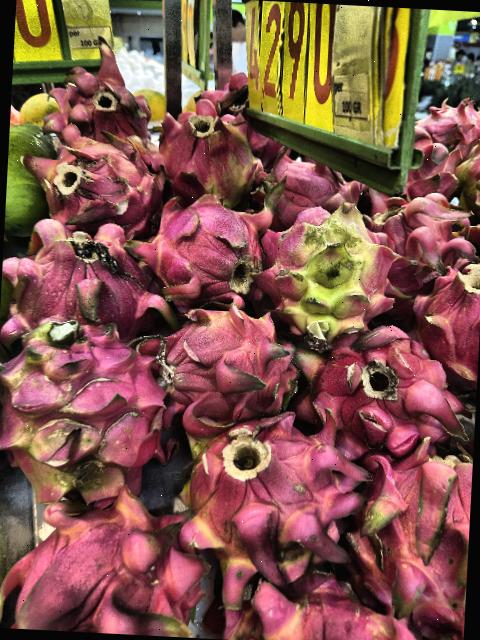buah-naga-belum-matang: (0, 317, 173, 509), (178, 416, 360, 590), (141, 294, 307, 428), (259, 199, 400, 346), (148, 102, 262, 210)
buah-naga-matang: (0, 480, 222, 639), (279, 315, 480, 456), (354, 426, 474, 627), (0, 218, 190, 344), (126, 190, 280, 314), (16, 126, 170, 242), (29, 37, 162, 151), (364, 187, 480, 294), (249, 140, 367, 232), (409, 260, 480, 384)
